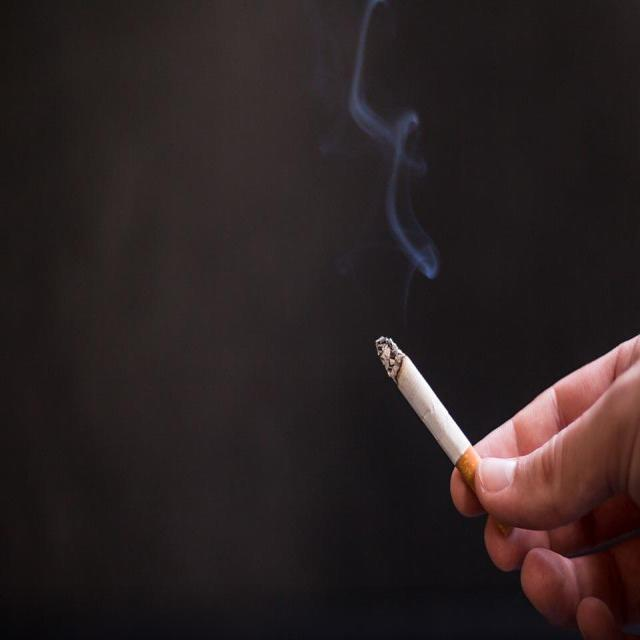cigarette: (376, 329, 478, 477)
